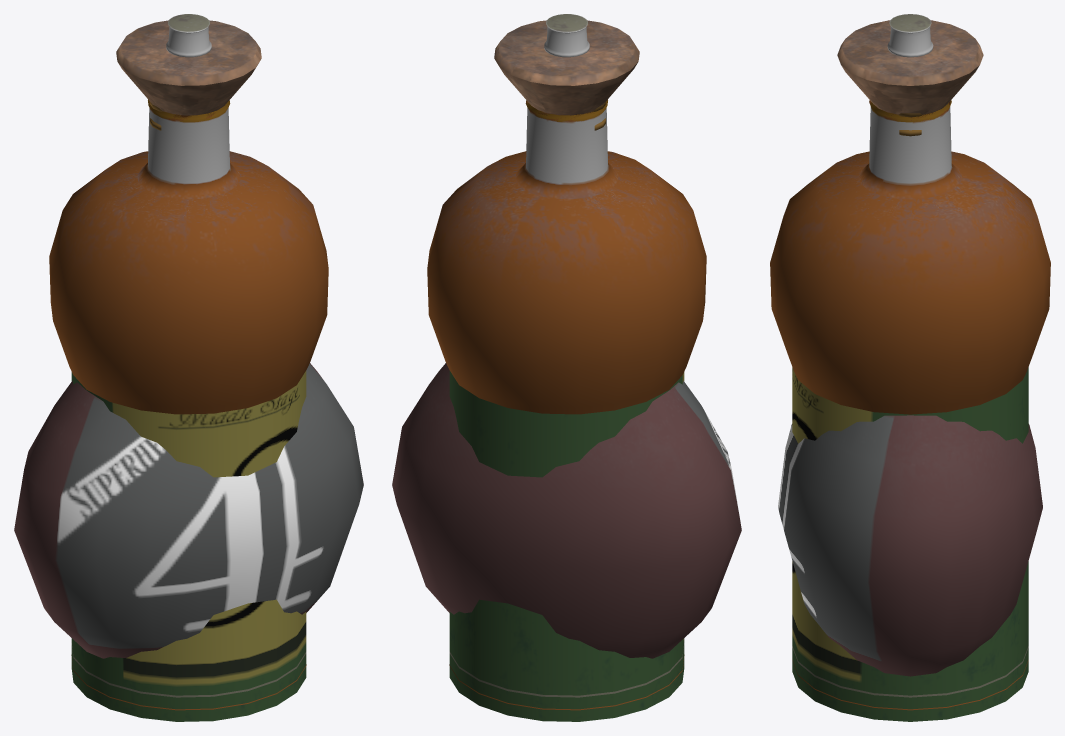
File: BgMD_Bottle01_1.fbx
3 renders of one model, left to right at view 1: azimuth 30°, elevation 25°; view 2: azimuth 150°, elevation 25°; view 3: azimuth 270°, elevation 25°, orthographic.
Parts seen in each view (by area): view 1: botoll_03, botoll_05, botoll_01, botoll_04; view 2: botoll_03, botoll_05, botoll_01, botoll_04; view 3: botoll_03, botoll_05, botoll_01, botoll_04.
Part boxes in pixels (box(x1,y1,x2,y2)): botoll_03: box(49, 20, 328, 710); botoll_05: box(14, 102, 363, 658); botoll_01: box(71, 99, 306, 721); botoll_04: box(71, 14, 306, 697); botoll_03: box(427, 20, 706, 710); botoll_05: box(392, 102, 741, 658); botoll_01: box(449, 99, 684, 721); botoll_04: box(449, 14, 684, 697); botoll_03: box(770, 20, 1050, 710); botoll_05: box(778, 113, 1042, 676); botoll_01: box(792, 100, 1028, 721); botoll_04: box(792, 14, 1028, 697).
Size of the model in its own units: 0.1428 by 0.273 by 0.1071.
